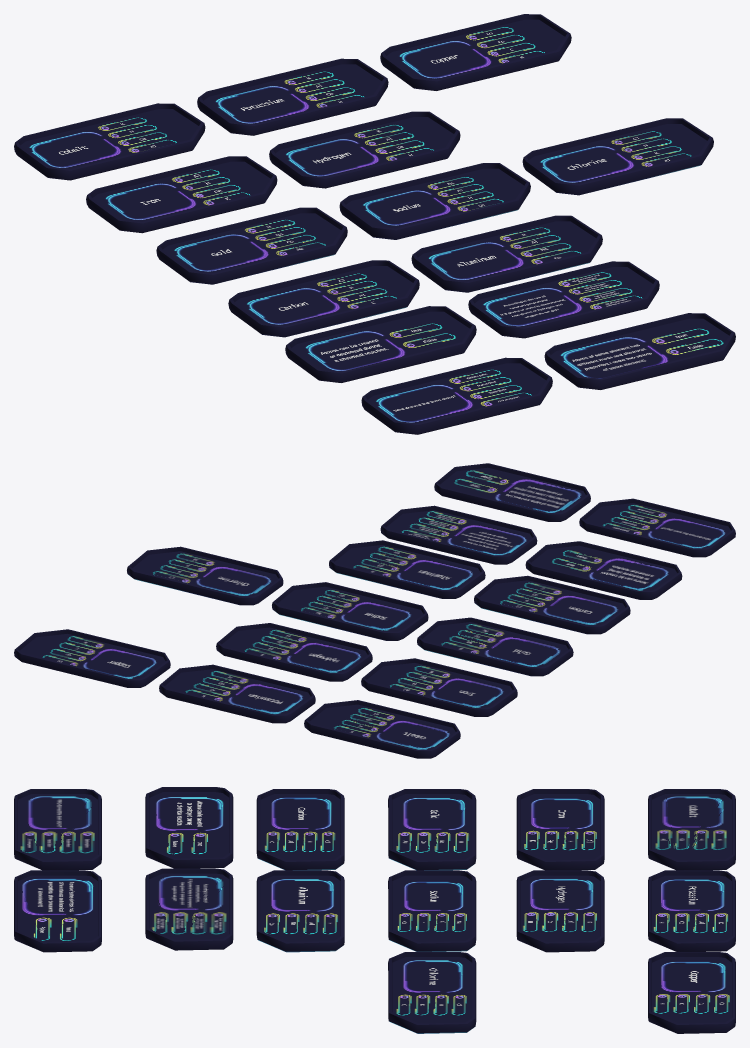
Rendered from questions.fbx.
The picture shows the model from 3 angles, top to bottom: view 1: azimuth 30°, elevation 25°; view 2: azimuth 150°, elevation 25°; view 3: azimuth 270°, elevation 25°; orthographic projection. The views are drawn at different scales.
Parts seen in each view (by area): view 1: q610, q69, q64, q65, q2, q67, q66, q5, q63, q4, q3, q62 (+2 smaller); view 2: q610, q3, q66, q63, q2, q65, q64, q67, q4, q62, q61, q68 (+2 smaller); view 3: q2, q64, q69, q68, q4, q66, q62, q610, q67, q5, q63, q61 (+2 smaller).
Boxes of the visible parts, left/top/right/bottom form: q610: left=156, top=207, right=347, bottom=284; q69: left=411, top=215, right=602, bottom=292; q64: left=269, top=111, right=460, bottom=188; q65: left=14, top=103, right=205, bottom=180; q2: left=468, top=261, right=659, bottom=338; q67: left=228, top=260, right=419, bottom=337; q66: left=522, top=118, right=713, bottom=195; q5: left=544, top=313, right=735, bottom=389; q63: left=197, top=58, right=388, bottom=135; q4: left=285, top=306, right=476, bottom=382; q3: left=361, top=357, right=552, bottom=434; q62: left=86, top=156, right=277, bottom=233; q610: left=417, top=617, right=573, bottom=676; q3: left=579, top=498, right=735, bottom=557; q66: left=127, top=546, right=283, bottom=605; q63: left=159, top=664, right=315, bottom=723; q2: left=380, top=505, right=537, bottom=564; q65: left=304, top=700, right=460, bottom=758; q64: left=216, top=623, right=372, bottom=681; q67: left=474, top=575, right=630, bottom=634; q4: left=525, top=541, right=682, bottom=599; q62: left=361, top=658, right=517, bottom=716; q61: left=14, top=629, right=170, bottom=687; q68: left=272, top=582, right=428, bottom=640; q2: left=145, top=868, right=233, bottom=950; q64: left=516, top=870, right=604, bottom=952; q69: left=256, top=870, right=344, bottom=952; q68: left=388, top=870, right=476, bottom=951; q4: left=145, top=787, right=233, bottom=868; q66: left=388, top=952, right=476, bottom=1033; q62: left=516, top=789, right=604, bottom=870; q610: left=388, top=789, right=476, bottom=870; q67: left=256, top=789, right=344, bottom=870; q5: left=14, top=870, right=101, bottom=952; q63: left=648, top=870, right=735, bottom=951; q61: left=648, top=952, right=735, bottom=1033.
Bounding box in the file's own units: 2152 × 40.69 × 2749.
3 materials, 3 textured.
